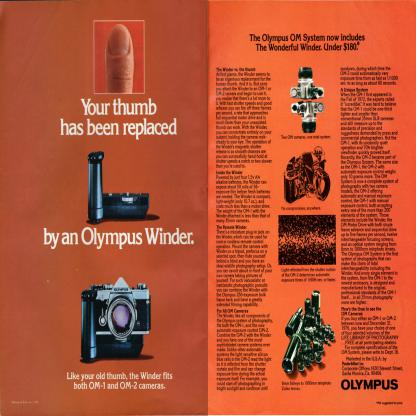Camera: (77, 278, 153, 361), (89, 151, 152, 225), (283, 289, 337, 374), (291, 100, 325, 134), (291, 68, 324, 101)
